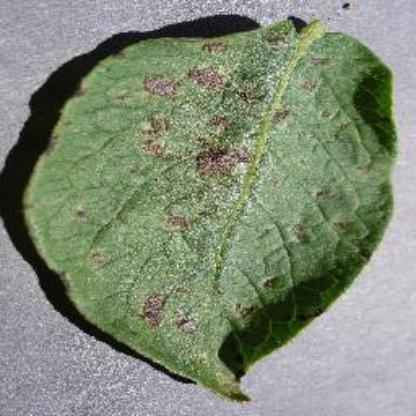Early-Blight: (20, 16, 402, 396)
